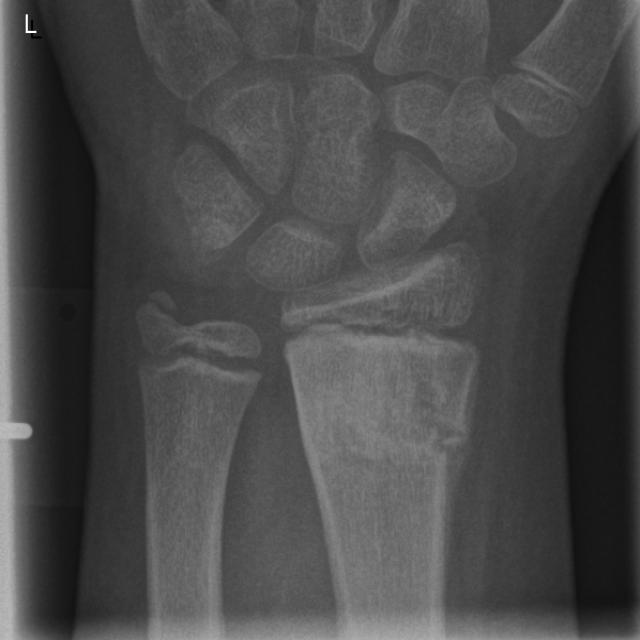radius fracture: (288, 392, 501, 526)
